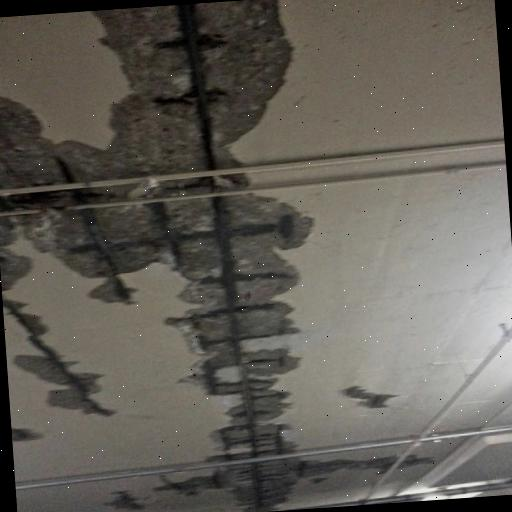spalling: (0, 0, 435, 512)
